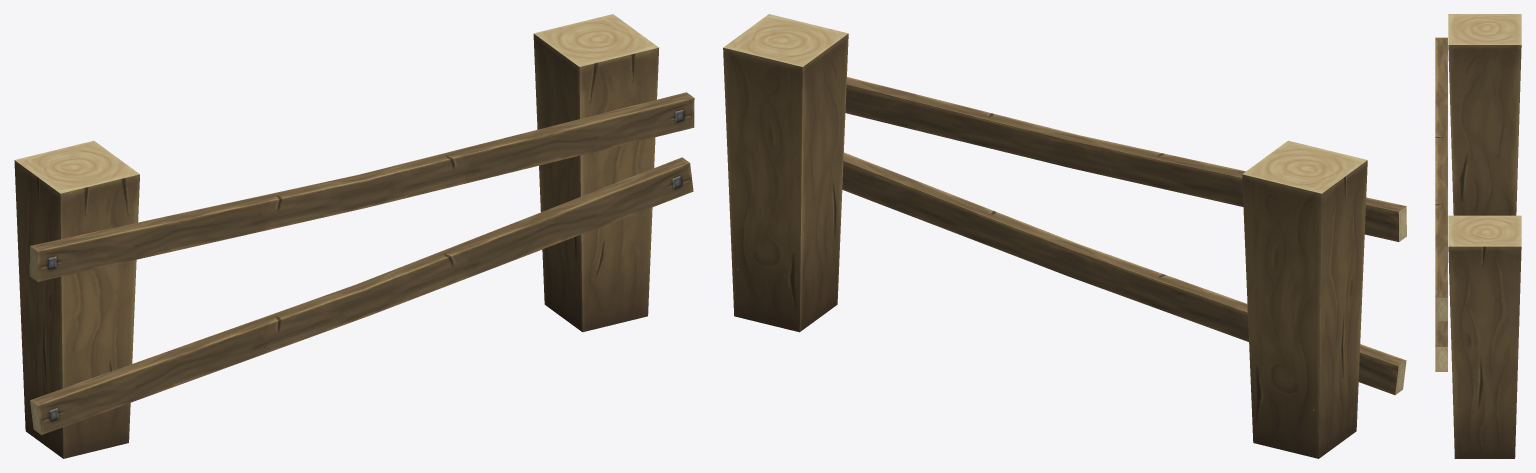
File: wooden_fence_43.fbx
3 views of the same model, side by side, from view 1: azimuth 30°, elevation 25°; view 2: azimuth 150°, elevation 25°; view 3: azimuth 270°, elevation 25° (orthographic). The views are drawn at different scales.
Parts seen in each view (by area): view 1: wooden_fence_43:Mesh; view 2: wooden_fence_43:Mesh; view 3: wooden_fence_43:Mesh.
Boxes of the visible parts, x1,y1,x2,y2 form: wooden_fence_43:Mesh: [14, 14, 694, 458]; wooden_fence_43:Mesh: [723, 14, 1406, 458]; wooden_fence_43:Mesh: [1435, 14, 1521, 458].
Size of the model in its own units: 6.87 by 2.7 by 0.9796.
